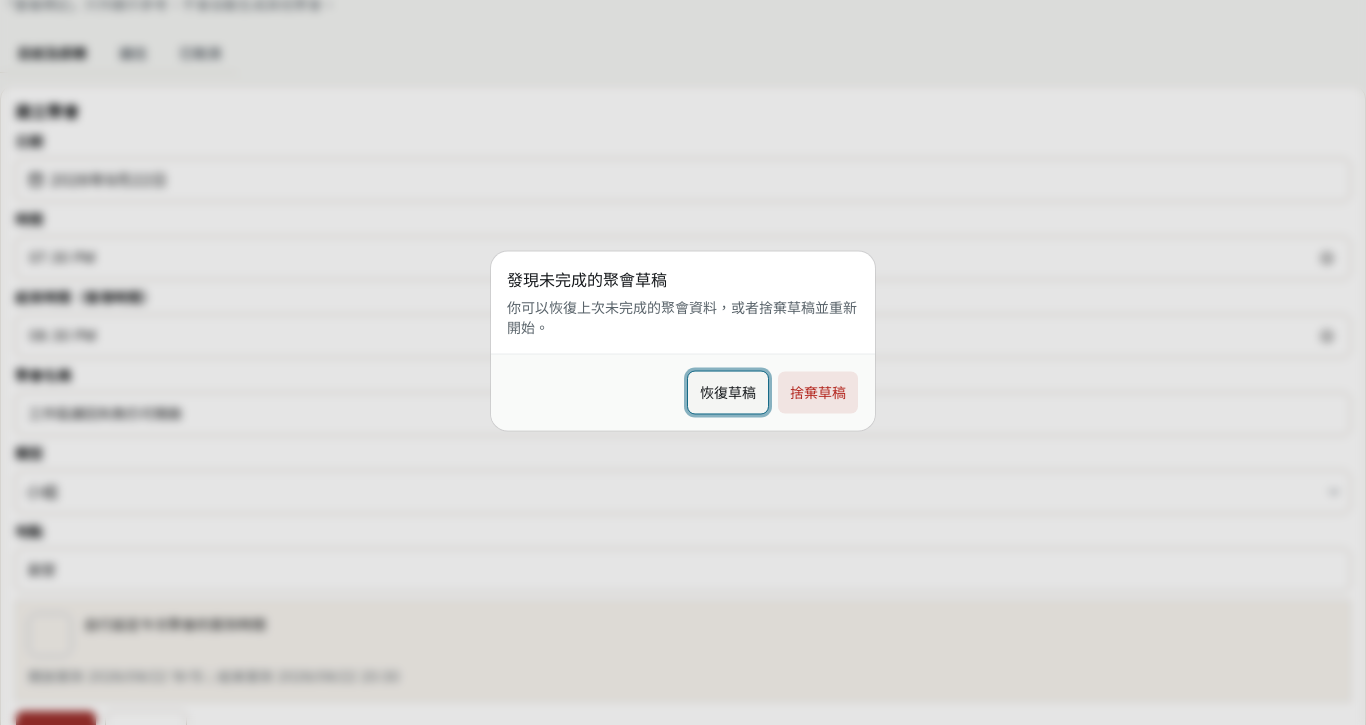
EventsTask operations-first composition › opens a committed Event when workspace readback is stale but Event readback succeeds
Step 1. Click the button "恢復草稿" → point(728, 392), box [687,370,769,414]
(page scrolled)
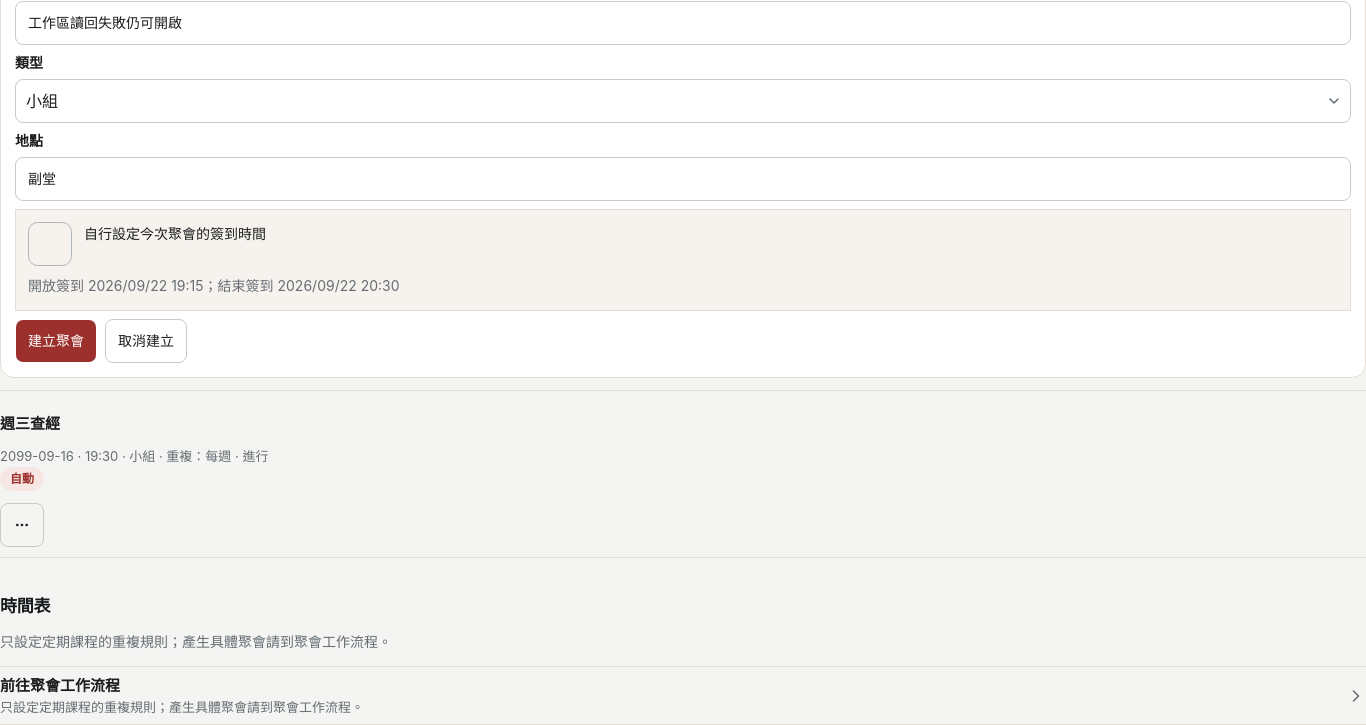
Step 2. Click the button "建立聚會" → point(56, 341), box [15,319,97,363]
(page scrolled)
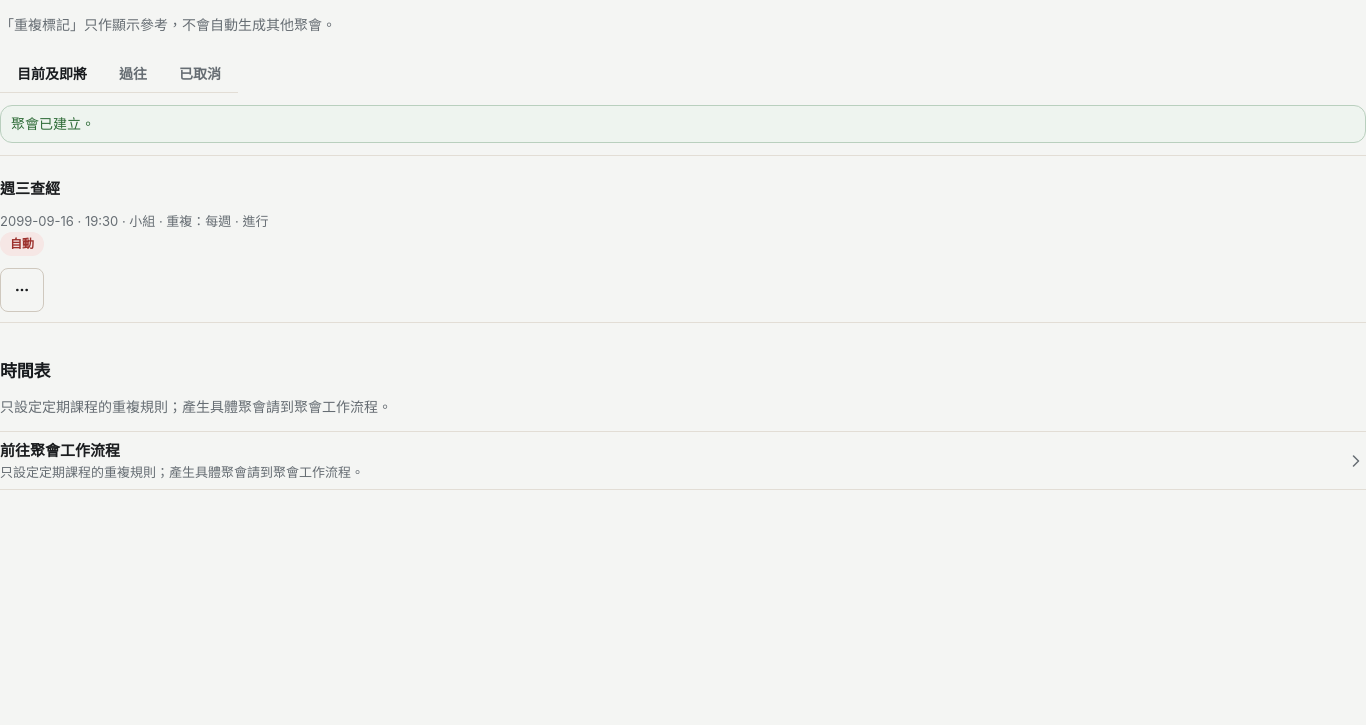
Result: the text "聚會已建立。" is shown at [0,105,1365,143]
